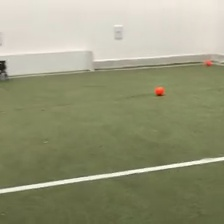ball: (154, 84, 165, 96), (205, 58, 213, 67)
goal: (1, 48, 97, 76)
robot: (1, 57, 8, 82)
